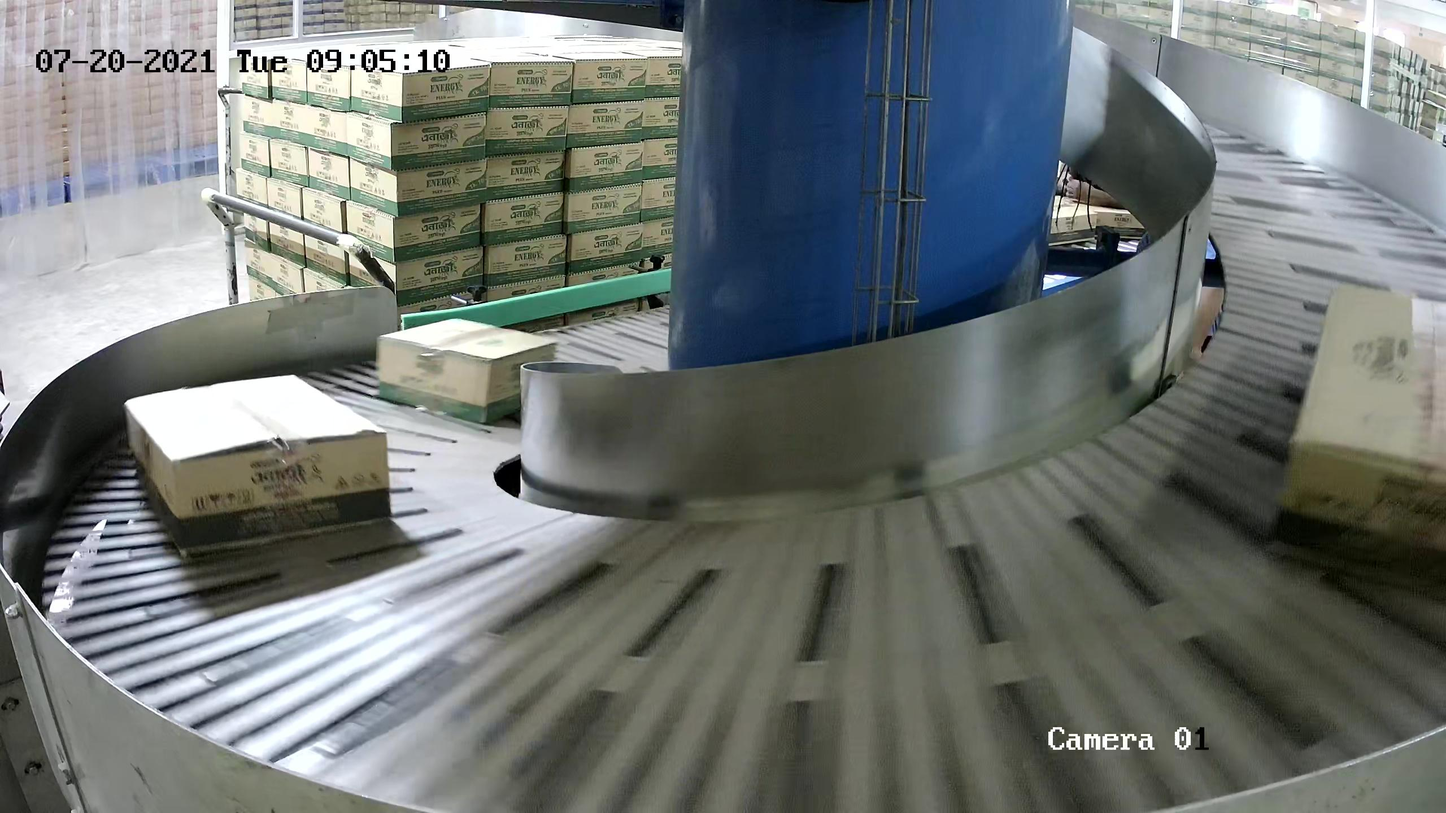Box: (1269, 282, 1446, 583), (123, 373, 392, 556), (375, 317, 558, 424)
